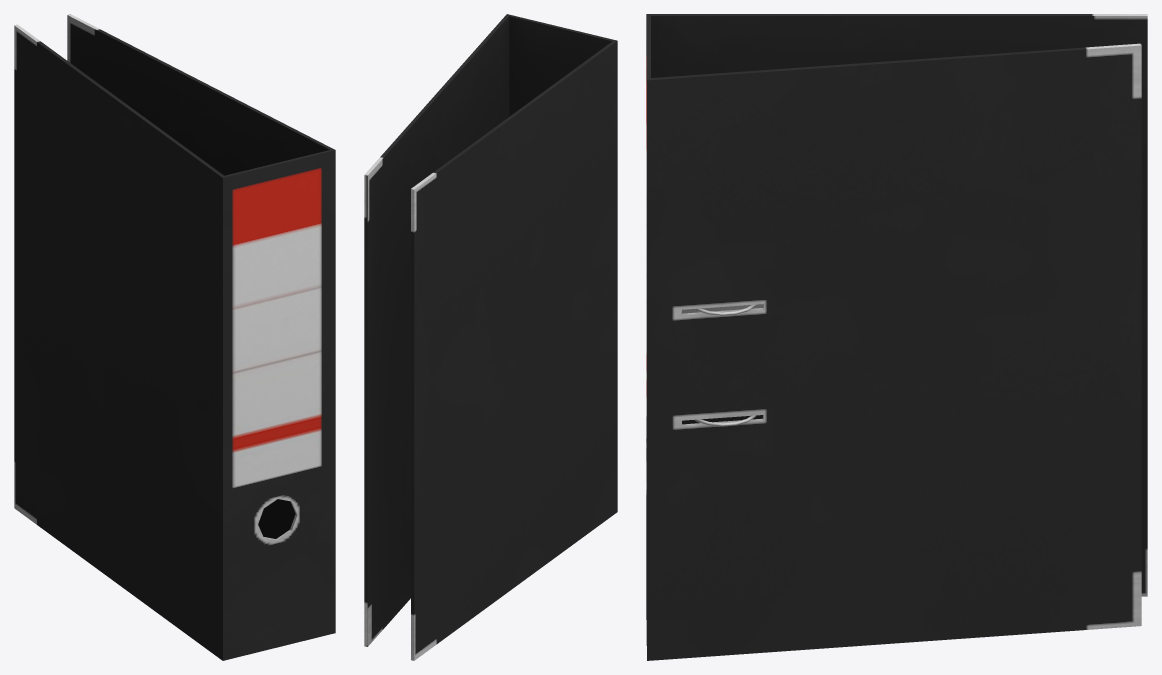
File: ordnerBlack.fbx
The picture shows the model from 3 angles, left to right: view 1: azimuth 30°, elevation 25°; view 2: azimuth 150°, elevation 25°; view 3: azimuth 270°, elevation 25°; orthographic projection. The views are drawn at different scales.
Visible parts, largest first — view 1: ordner01; view 2: ordner01; view 3: ordner01.
Part boxes in pixels (x1,y1,x2,y2): ordner01: (14, 14, 335, 660); ordner01: (364, 14, 617, 660); ordner01: (646, 14, 1147, 660).
Bounding box in the file's own units: 0.1217 × 0.4957 × 0.3882.
